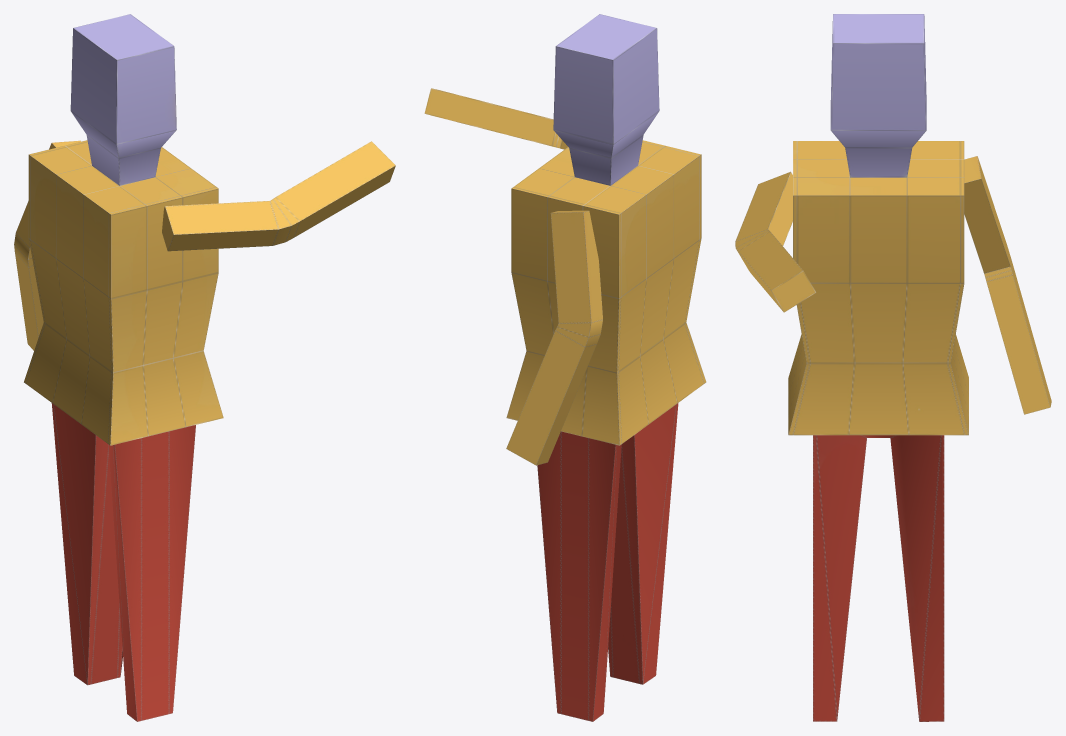
The model's file is Character.fbx.
3 views of the same model, side by side, from view 1: azimuth 30°, elevation 25°; view 2: azimuth 150°, elevation 25°; view 3: azimuth 270°, elevation 25° (orthographic). The views are drawn at different scales.
Visible parts, largest first — view 1: polySurface26; view 2: polySurface26; view 3: polySurface26.
Part boxes in pixels (x1=…): polySurface26: x1=14, y1=14, x2=395, y2=721; polySurface26: x1=424, y1=14, x2=706, y2=721; polySurface26: x1=735, y1=14, x2=1051, y2=721.
Bounding box in the file's own units: 0.995 × 2.26 × 0.9454.
1 material, 1 textured.
